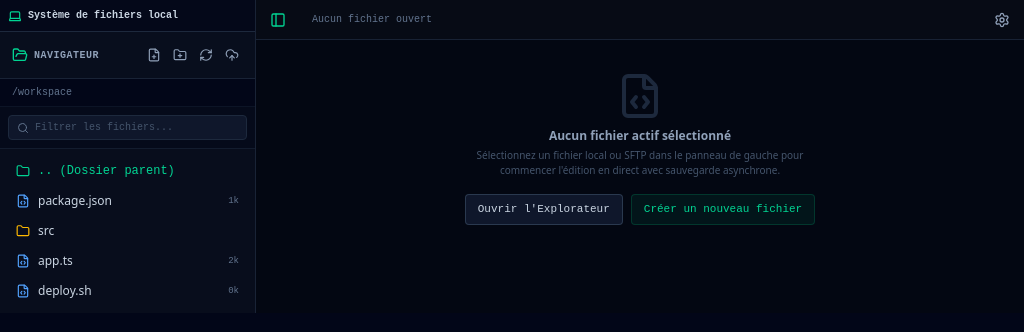
Test: MonacoFileEditor Component › toggles the editor settings menu and loads preferences
// Open file to see the toolbar
What coordinates should you click on to do the following:
click the text "app.ts"
I would click on:
 (55, 261)
Its box is left=38, top=253, right=73, bottom=269.
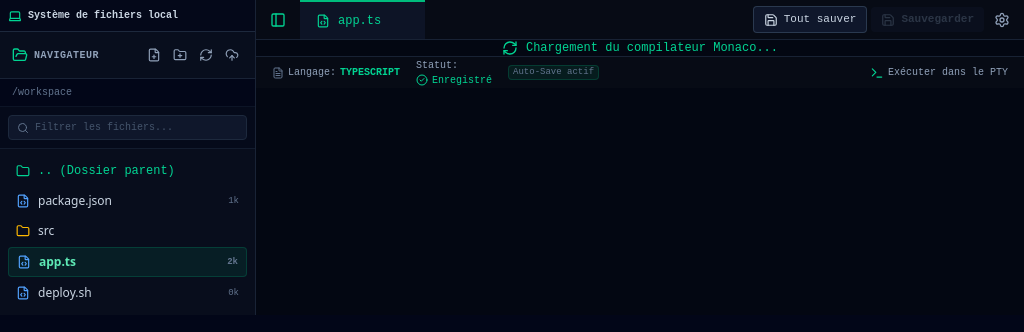
What coordinates should you click on to do the following:
click the button titled "Paramètres de l'éditeur"
I would click on:
 (1002, 20)
Its box is left=988, top=6, right=1016, bottom=34.
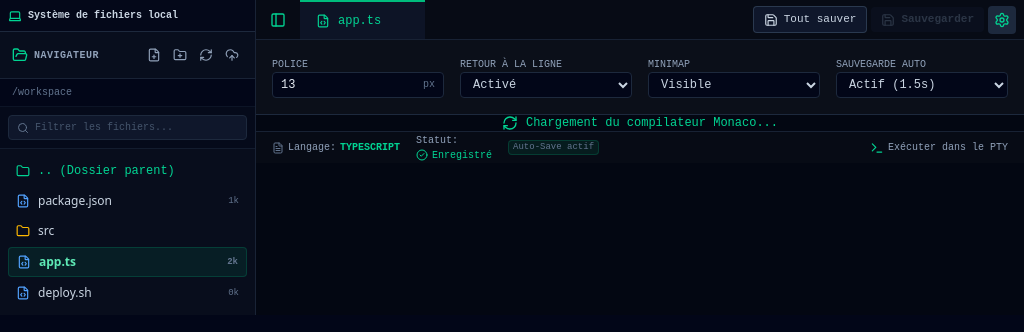
Result: the text "Police" is shown at left=272, top=59, right=308, bottom=70
Result: the text "Retour à la ligne" is shown at left=460, top=59, right=562, bottom=70
Result: the text "Minimap" is shown at left=648, top=59, right=690, bottom=70
